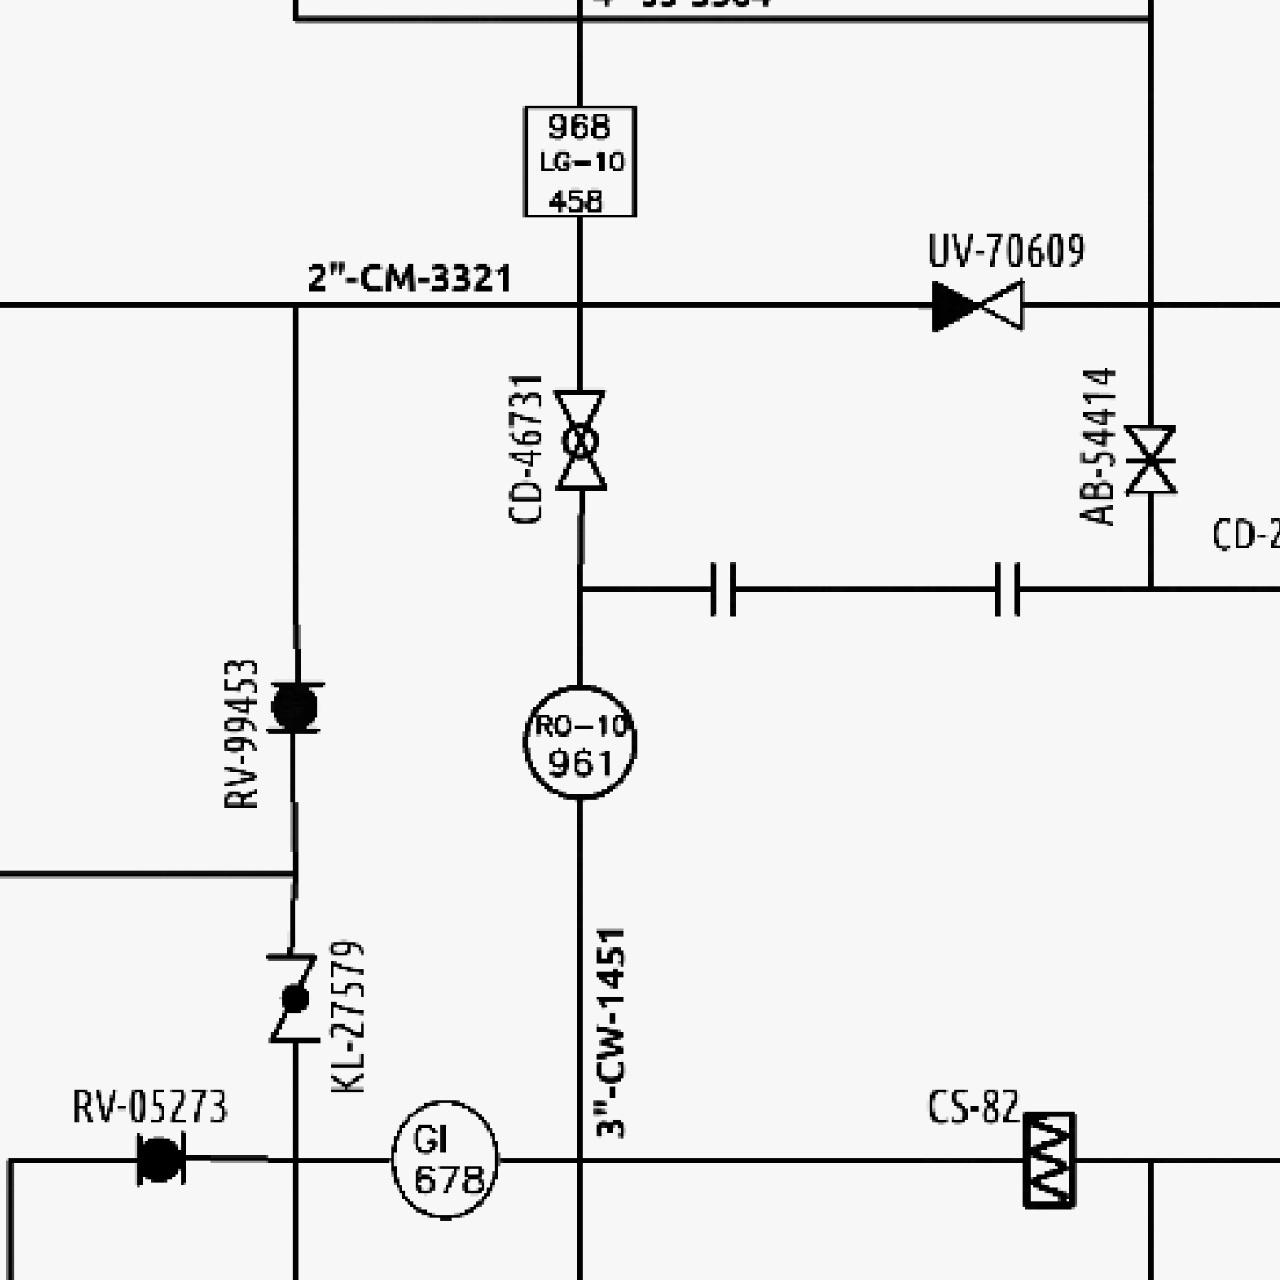Control-Panel: (517, 678, 641, 805)
Half closed valve: (928, 274, 1027, 335)
